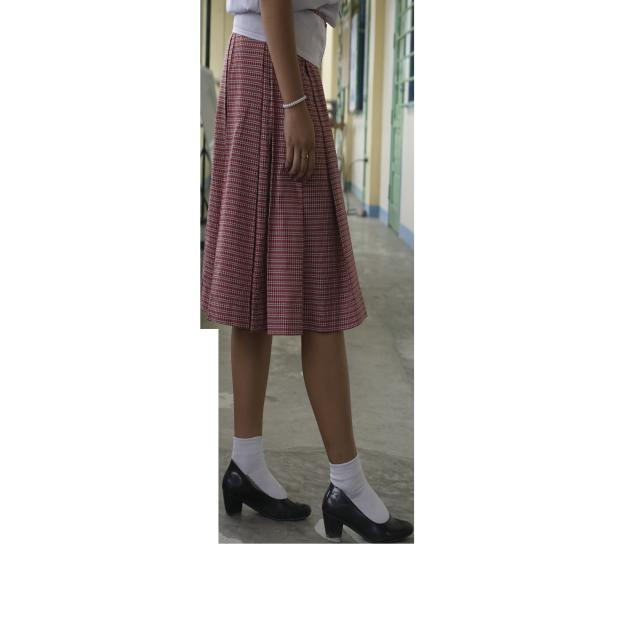shoes: (322, 484, 413, 543), (222, 461, 311, 521)
skirt: (201, 34, 367, 335)
